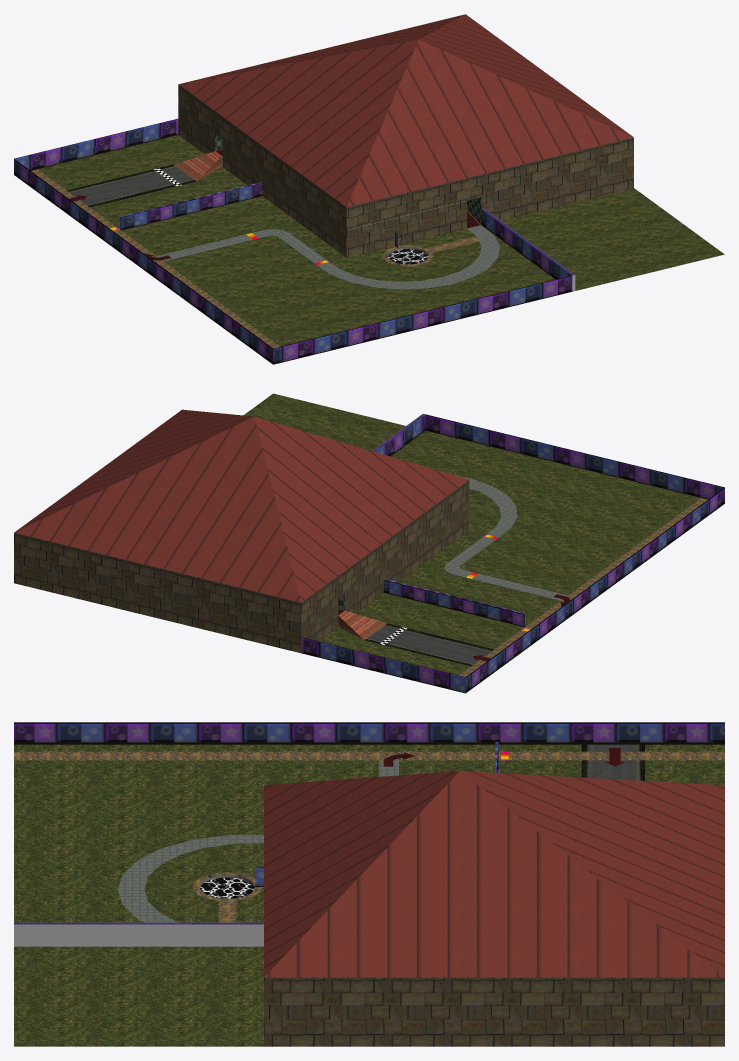
3 renders of one model, top to bottom at view 1: azimuth 30°, elevation 25°; view 2: azimuth 150°, elevation 25°; view 3: azimuth 270°, elevation 25°, orthographic. The views are drawn at different scales.
Parts seen in each view (by area): view 1: Track-SKP--Material11, Track-SKP--Material5, Track-SKP--Roofing_Slate_Tan, Track-SKP--Material9, Track-SKP--Material4, Track-SKP--Material1, Track-SKP--Material, Track-SKP--Material2; view 2: Track-SKP--Material11, Track-SKP--Material5, Track-SKP--Roofing_Slate_Tan, Track-SKP--Material9, Track-SKP--Material4, Track-SKP--Material, Track-SKP--Material1, Track-SKP--Material2; view 3: Track-SKP--Material11, Track-SKP--Material5, Track-SKP--Roofing_Slate_Tan, Track-SKP--Material9, Track-SKP--Material1, Track-SKP--Default_Material, Track-SKP--Material4, Track-SKP--Material, Track-SKP--Material6.
Boxes of the visible parts, x1=… form: Track-SKP--Material11: x1=179, y1=14, x2=633, y2=207; Track-SKP--Material5: x1=38, y1=135, x2=724, y2=346; Track-SKP--Roofing_Slate_Tan: x1=178, y1=84, x2=633, y2=257; Track-SKP--Material9: x1=14, y1=118, x2=574, y2=364; Track-SKP--Material4: x1=156, y1=225, x2=499, y2=289; Track-SKP--Material1: x1=31, y1=169, x2=479, y2=348; Track-SKP--Material: x1=67, y1=164, x2=196, y2=207; Track-SKP--Material2: x1=174, y1=151, x2=221, y2=180; Track-SKP--Material11: x1=14, y1=409, x2=468, y2=602; Track-SKP--Material5: x1=243, y1=393, x2=700, y2=675; Track-SKP--Roofing_Slate_Tan: x1=14, y1=480, x2=469, y2=653; Track-SKP--Material9: x1=301, y1=414, x2=724, y2=693; Track-SKP--Material4: x1=444, y1=476, x2=567, y2=600; Track-SKP--Material: x1=364, y1=623, x2=494, y2=666; Track-SKP--Material1: x1=459, y1=498, x2=707, y2=676; Track-SKP--Material2: x1=338, y1=610, x2=386, y2=639; Track-SKP--Material11: x1=264, y1=771, x2=724, y2=977; Track-SKP--Material5: x1=14, y1=744, x2=724, y2=1046; Track-SKP--Roofing_Slate_Tan: x1=264, y1=977, x2=724, y2=1046; Track-SKP--Material9: x1=14, y1=722, x2=724, y2=924; Track-SKP--Material1: x1=14, y1=751, x2=724, y2=922; Track-SKP--Default_Material: x1=14, y1=924, x2=263, y2=946; Track-SKP--Material4: x1=117, y1=760, x2=398, y2=922; Track-SKP--Material: x1=581, y1=744, x2=644, y2=780; Track-SKP--Material6: x1=200, y1=877, x2=254, y2=898.
Size of the model in its own units: 119324 by 33531 by 118617.
16 materials, 15 textured.
